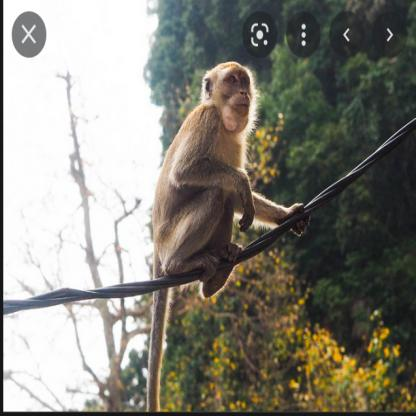monkey: (147, 59, 312, 367)
